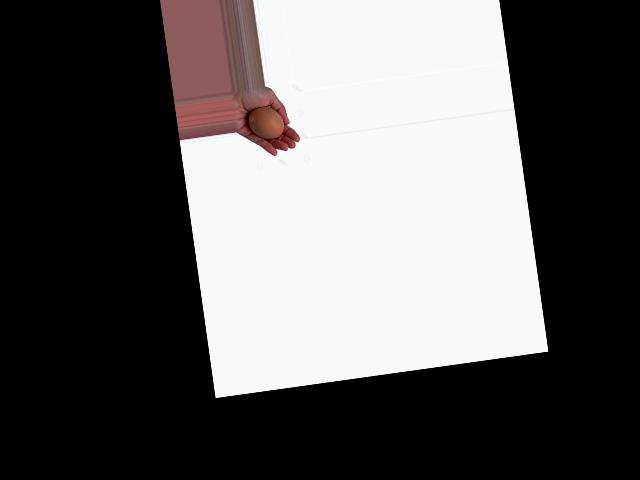egg: (247, 104, 285, 142)
